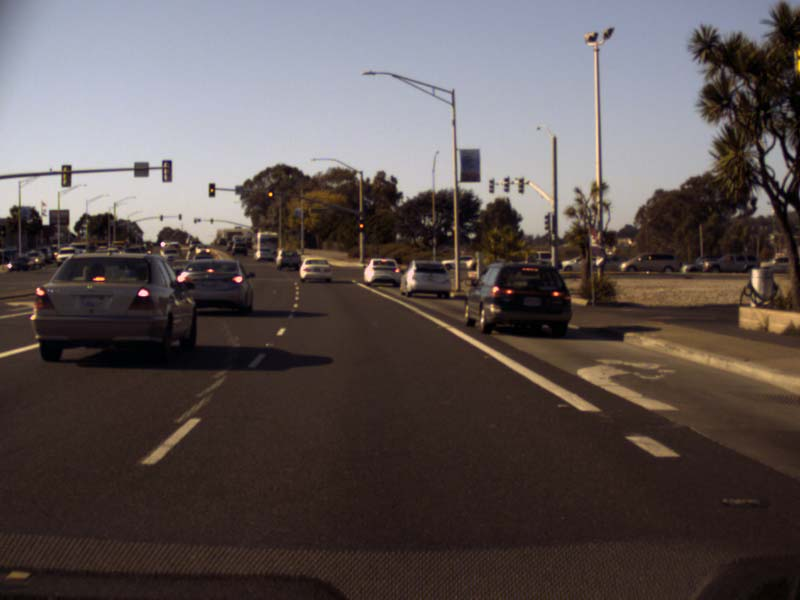Yellow: (208, 182, 215, 197), (268, 187, 273, 200), (359, 220, 364, 231)
